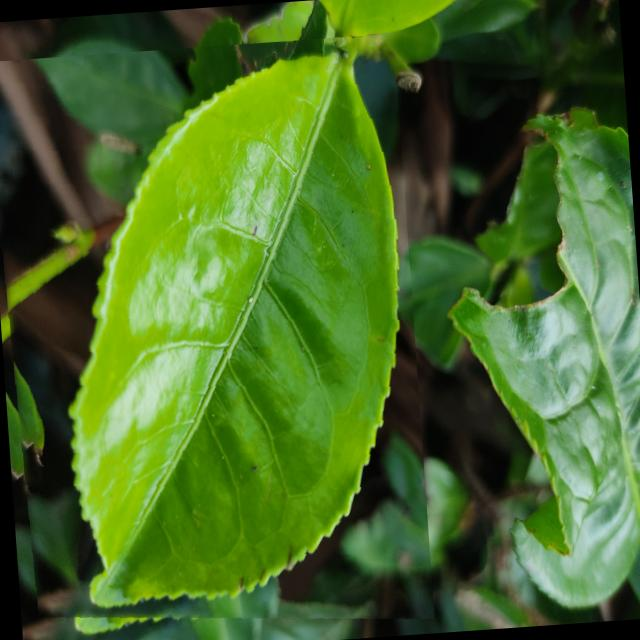Category B(2-4 days): (0, 33, 433, 640)
